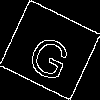G: (24, 25, 77, 84)
